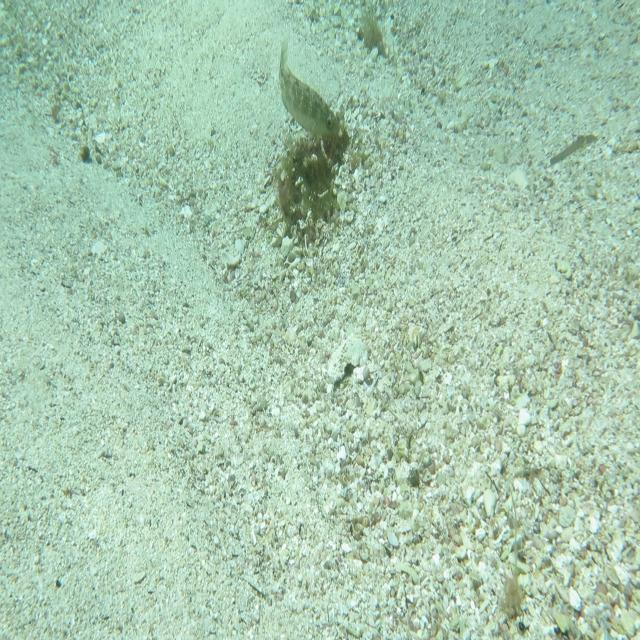NIP_IN: (276, 33, 342, 144)
core_nest: (301, 138, 336, 173)
nest: (271, 120, 353, 255)
vegetation: (549, 132, 601, 167), (354, 5, 385, 58), (79, 142, 91, 166)
